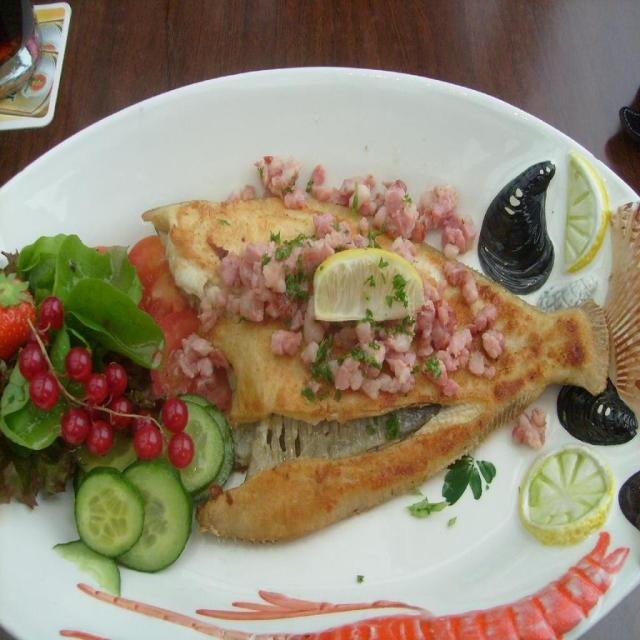Lemon: (518, 439, 616, 551), (316, 248, 426, 325), (562, 153, 612, 275)
